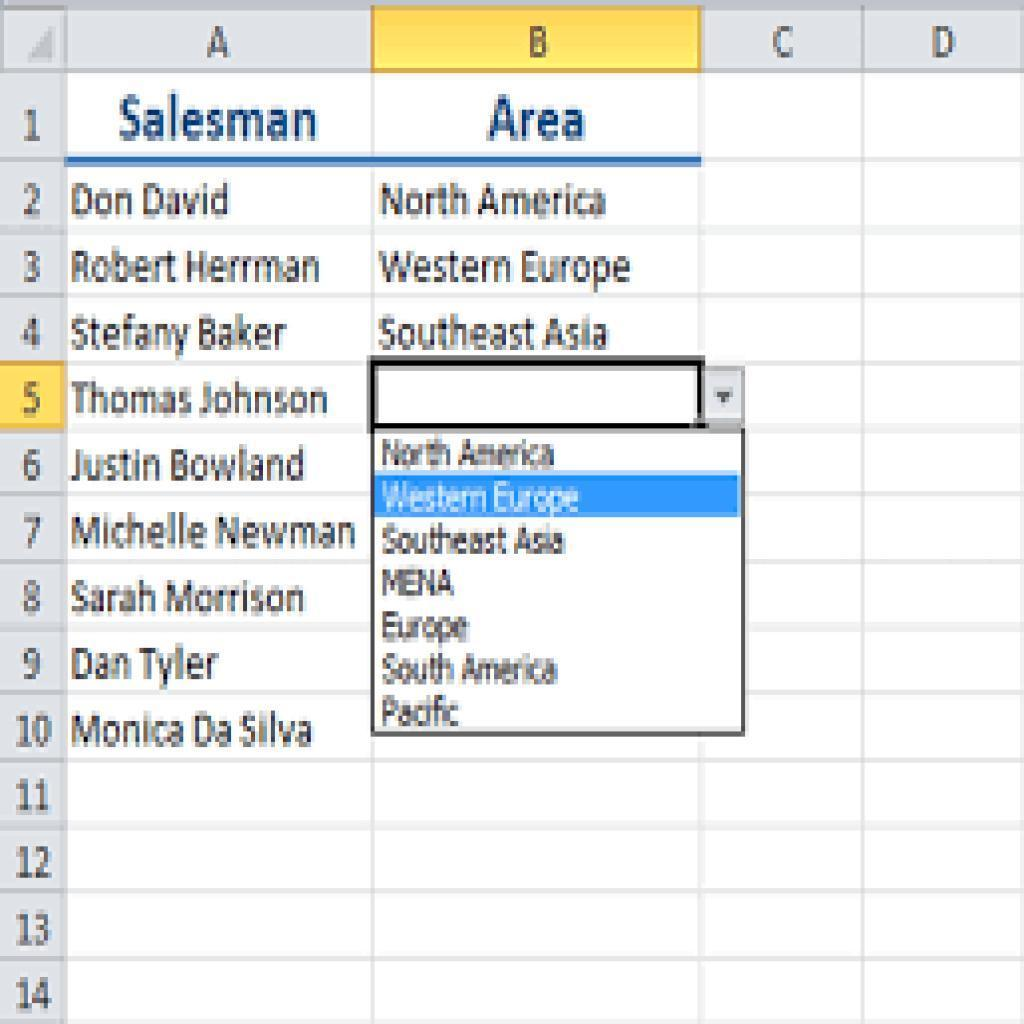dropdown: (367, 357, 754, 439)
table: (2, 5, 1024, 1019)
